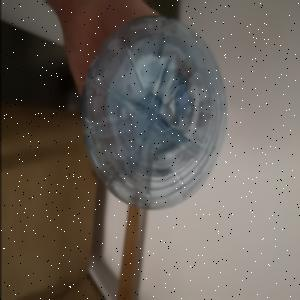Plastic-bottle: (77, 16, 231, 216)
